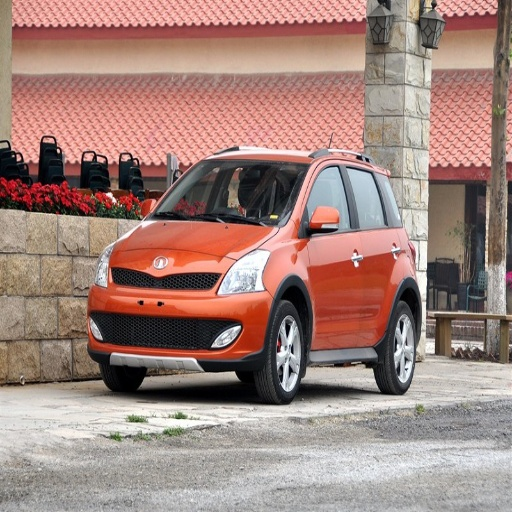front_bumper: (91, 258, 274, 371)
front_glass: (147, 160, 306, 227)
front_left_door: (301, 160, 362, 347)
